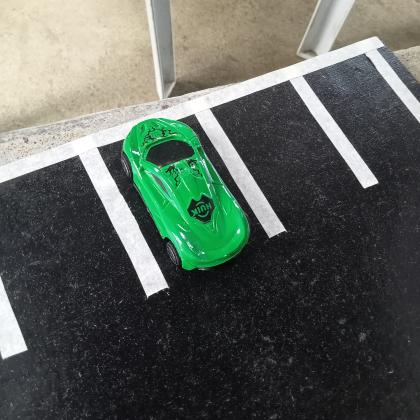Car: (121, 118, 251, 270)
